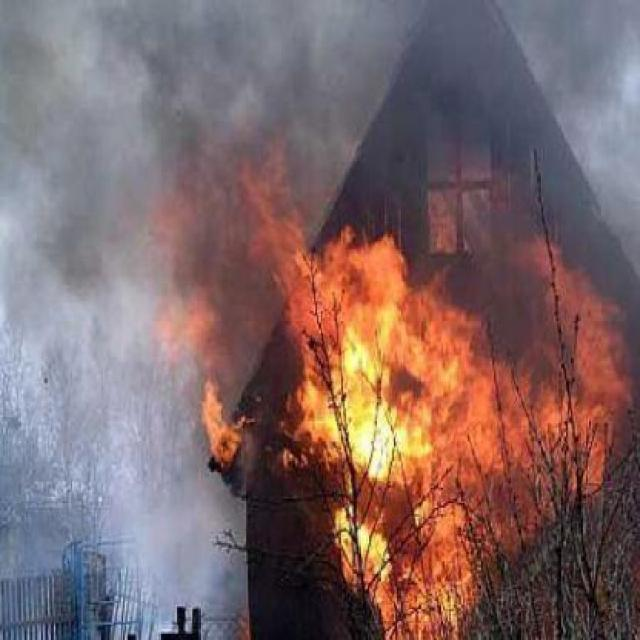Fire: (212, 186, 624, 608)
Smoke: (0, 29, 274, 304)
